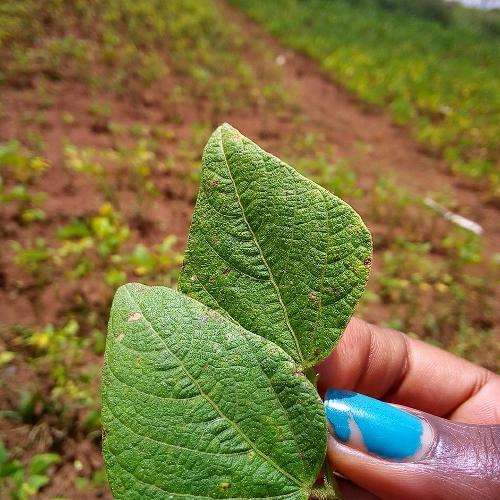embun tepung: (186, 165, 355, 327)
